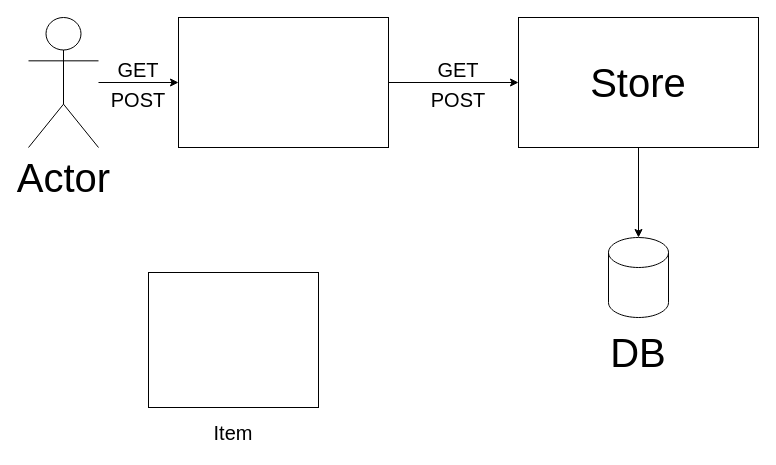
This 776x465 diagram has some shape labels left out. Here are the shapes that lost their labels. From the top down, the centre of each, then its label:
At (283,82): "API".
At (233,340): "ID Name Price Quantity Origin country".
